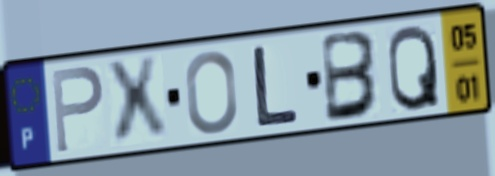B: (320, 28, 382, 126)
L: (249, 43, 301, 130)
O: (182, 48, 240, 138)
P: (48, 63, 106, 157)
Q: (386, 21, 444, 115)
X: (101, 53, 172, 151)
